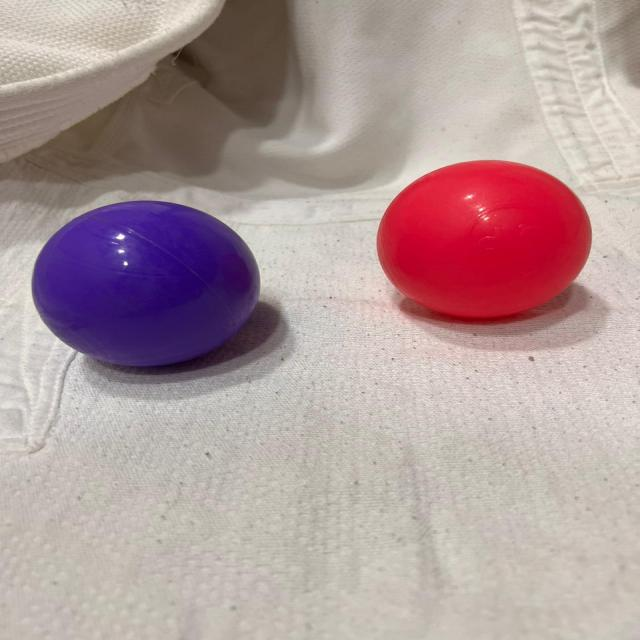ball: (31, 197, 262, 370), (375, 157, 593, 323)
